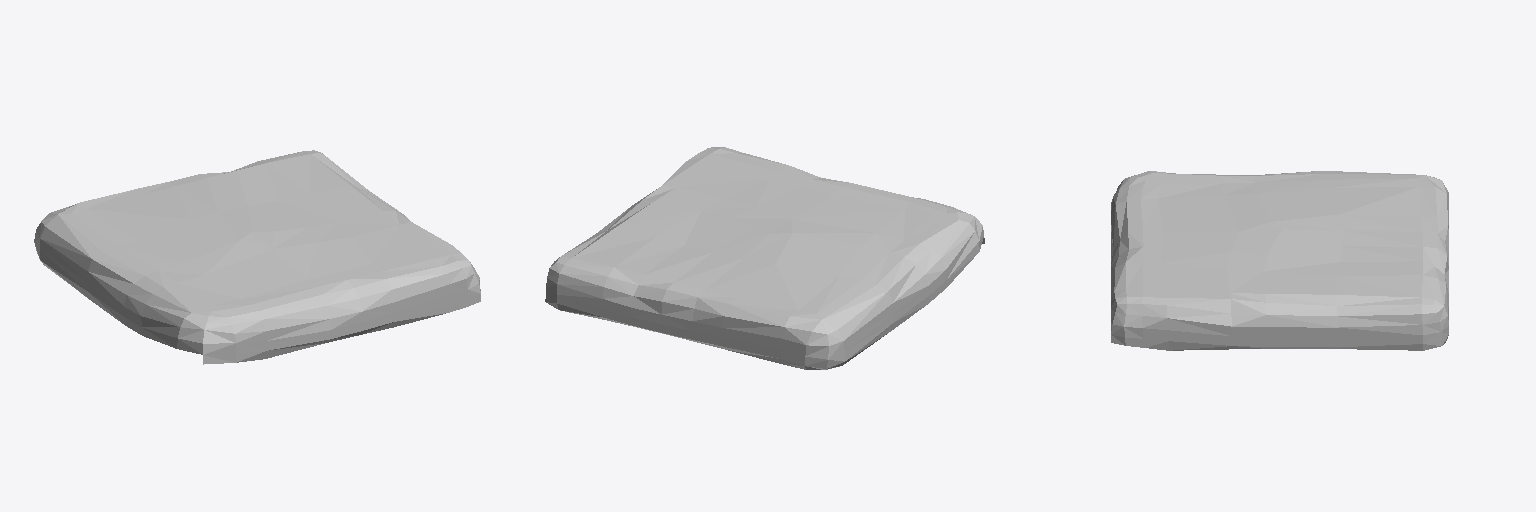
The model's file is Tile5.obj.
3 views of the same model, side by side, from view 1: azimuth 30°, elevation 25°; view 2: azimuth 150°, elevation 25°; view 3: azimuth 270°, elevation 25° (orthographic).
Parts seen in each view (by area): view 1: SM_Tile5_LP; view 2: SM_Tile5_LP; view 3: SM_Tile5_LP.
Part boxes in pixels (x1,y1,x2,y2): SM_Tile5_LP: (34,150,480,364); SM_Tile5_LP: (545,147,984,369); SM_Tile5_LP: (1111,171,1448,350).
Bounding box in the file's own units: 156 × 24.84 × 156.